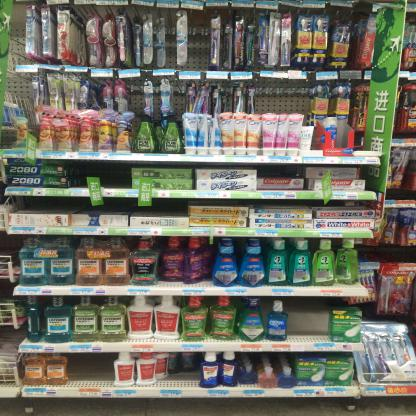Void: (13, 197, 189, 215), (254, 78, 310, 114), (286, 300, 332, 338), (73, 160, 133, 188), (69, 352, 116, 382), (188, 9, 211, 68), (359, 241, 415, 262), (170, 354, 198, 380)
